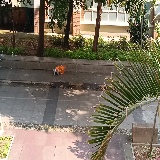fire: (56, 65, 66, 73)
